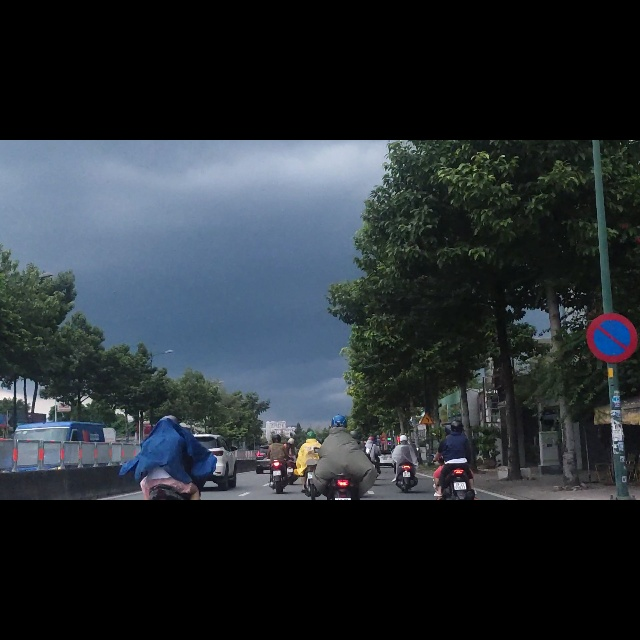bien_hieu_lenh: (585, 306, 638, 397), (419, 485, 434, 506)
